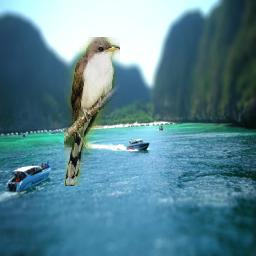Cuckoo: (64, 38, 120, 187)
